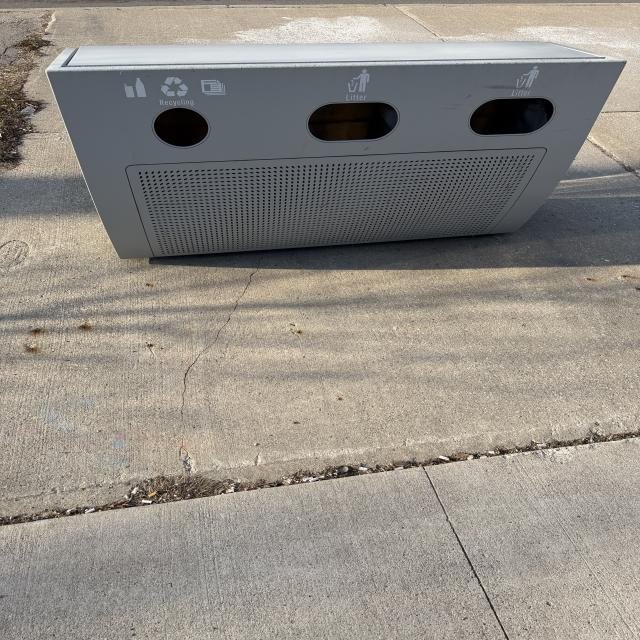Dustbin: (48, 45, 626, 258)
